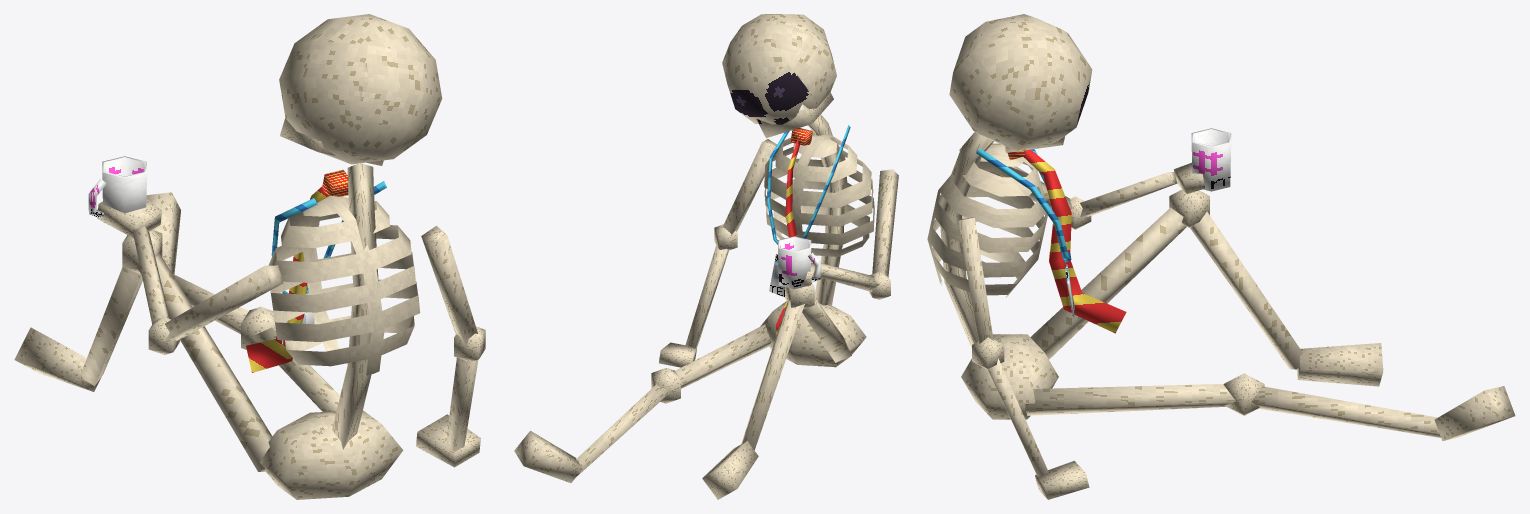
File: s_skeleton_lanyard.glb
3 views of the same model, side by side, from view 1: azimuth 30°, elevation 25°; view 2: azimuth 150°, elevation 25°; view 3: azimuth 270°, elevation 25° (orthographic). The views are drawn at different scales.
Visible parts, largest first — view 1: s_skeleton_lanyard_mesh; view 2: s_skeleton_lanyard_mesh; view 3: s_skeleton_lanyard_mesh.
Boxes of the visible parts, x1,y1,x2,y2 form: s_skeleton_lanyard_mesh: (14,14,485,499); s_skeleton_lanyard_mesh: (514,14,898,499); s_skeleton_lanyard_mesh: (927,14,1515,499).
Size of what is drawn, in the model's own units: 0.5909 by 0.8606 by 1.08.
Materials: 3 (3 with a texture image).
